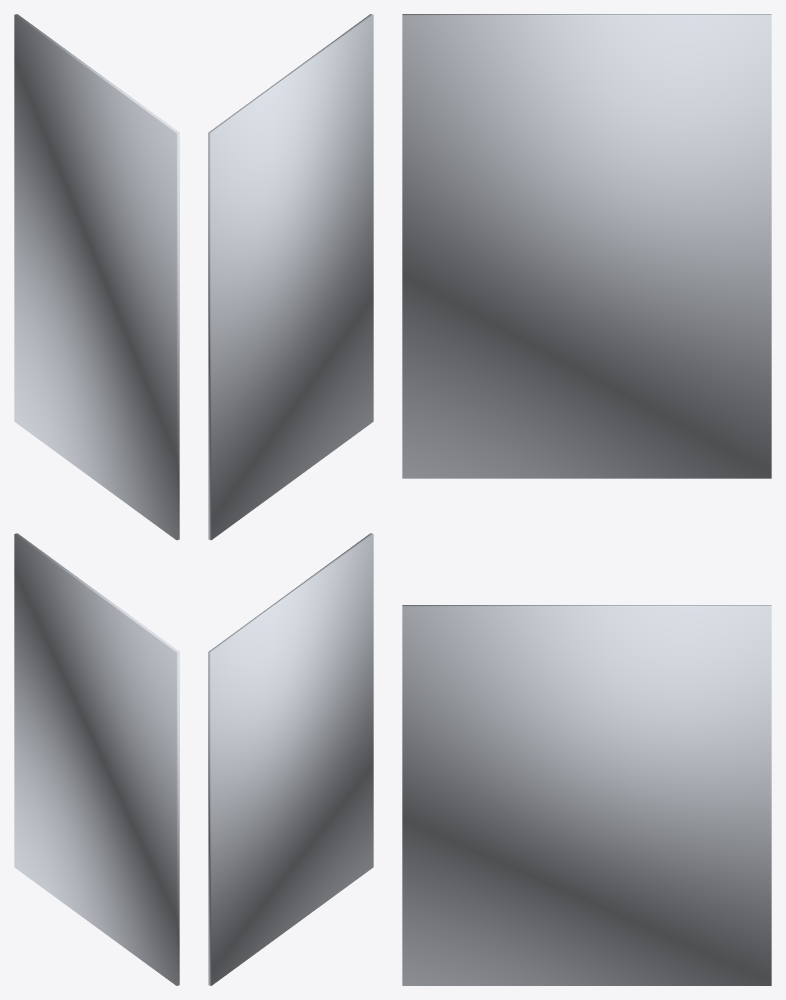
The model's file is KRM_M30_P5MOD_marble_panels.fbx.
3 renders of one model, left to right at view 1: azimuth 30°, elevation 25°; view 2: azimuth 150°, elevation 25°; view 3: azimuth 270°, elevation 25°, orthographic. The views are drawn at different scales.
Parts seen in each view (by area): view 1: KRM_M30_P5MOD_marble_panels; view 2: KRM_M30_P5MOD_marble_panels; view 3: KRM_M30_P5MOD_marble_panels.
Boxes of the visible parts, x1=… form: KRM_M30_P5MOD_marble_panels: x1=14, y1=14, x2=179, y2=985; KRM_M30_P5MOD_marble_panels: x1=208, y1=14, x2=373, y2=985; KRM_M30_P5MOD_marble_panels: x1=402, y1=14, x2=771, y2=985.
Size of the model in its own units: 4 by 985 by 340.
Materials: 1 (1 with a texture image).
